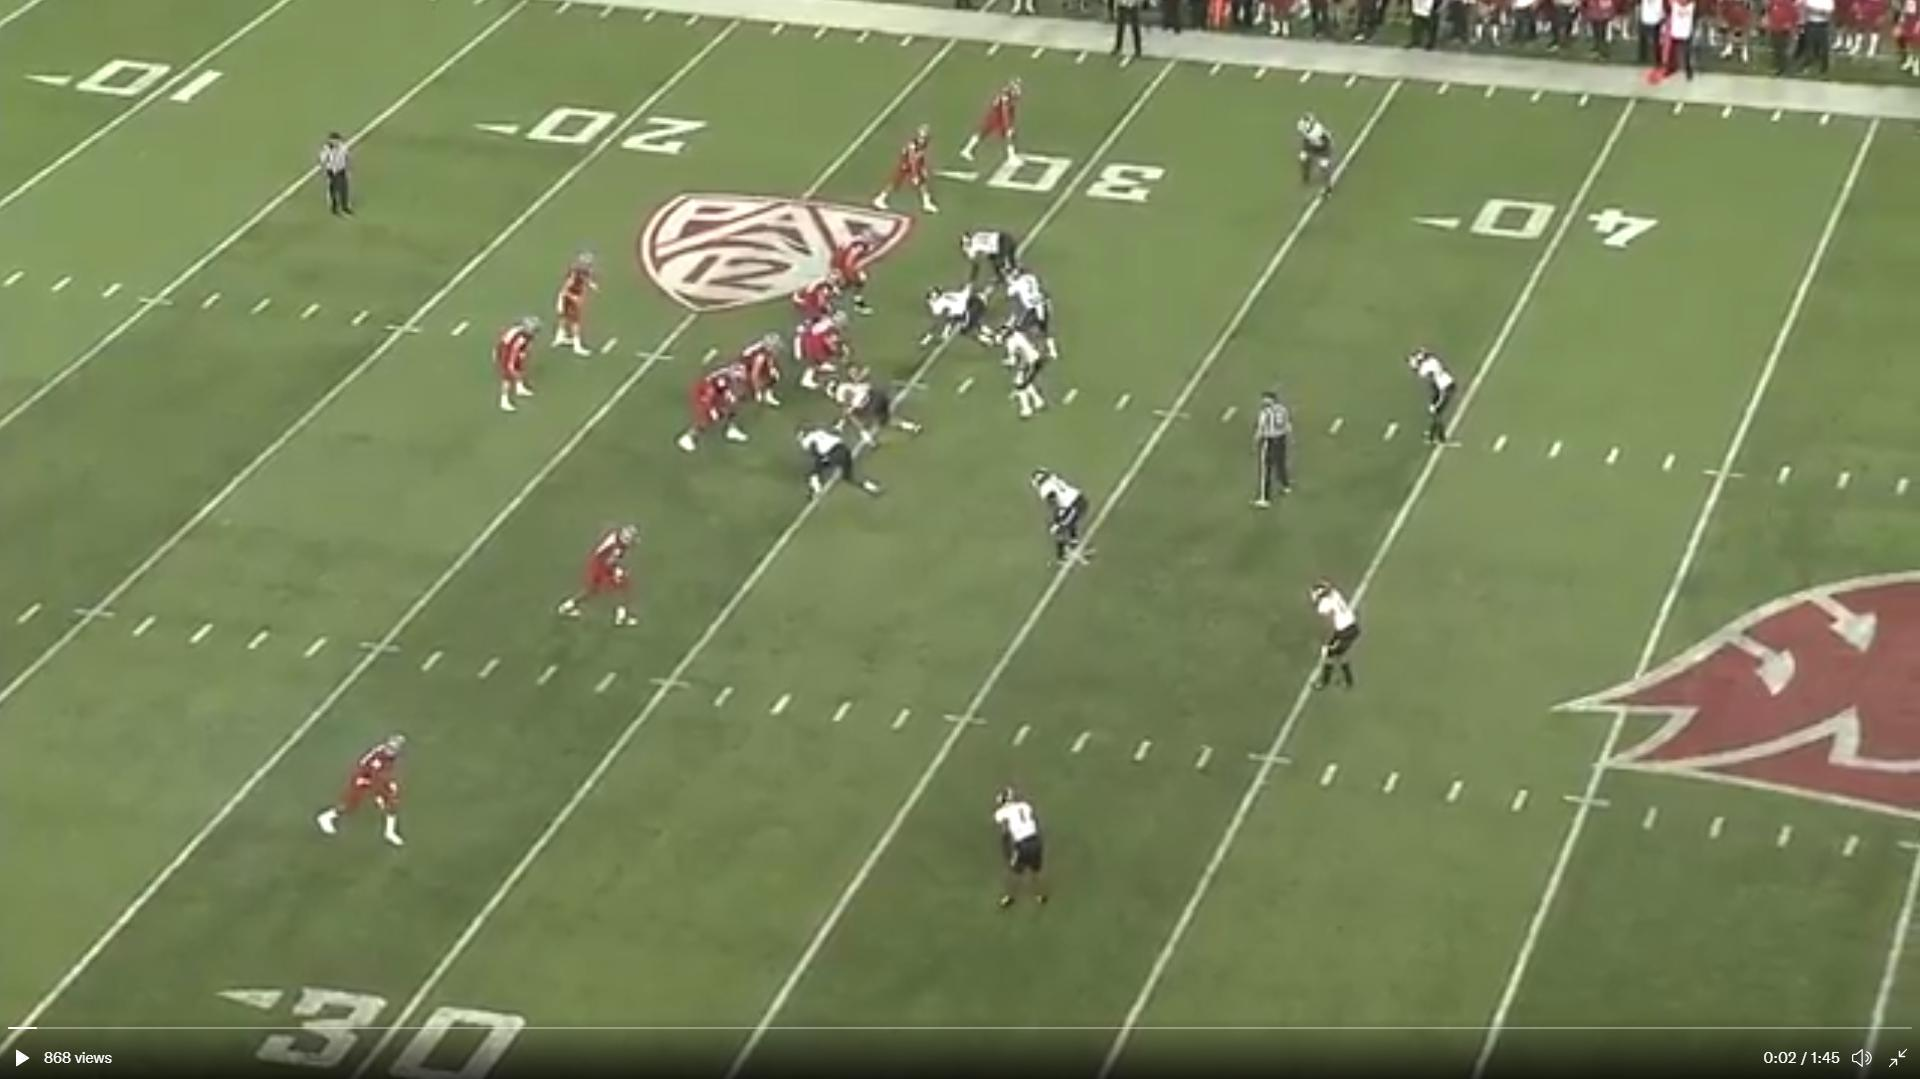player: (312, 726, 414, 854), (558, 521, 649, 635), (990, 782, 1054, 919), (1304, 576, 1365, 699), (796, 426, 887, 505), (826, 373, 922, 447), (678, 362, 752, 456), (1033, 467, 1096, 577), (958, 76, 1030, 169), (876, 121, 944, 219), (819, 226, 887, 318), (1002, 306, 1054, 421), (550, 244, 601, 359), (1005, 269, 1061, 368), (497, 309, 546, 420), (1405, 346, 1457, 445), (921, 288, 1000, 352), (956, 226, 1031, 289), (1291, 112, 1340, 204), (798, 325, 860, 394), (727, 330, 780, 410), (796, 274, 861, 323)
ref: (1250, 382, 1300, 515), (312, 126, 360, 225), (1104, 0, 1148, 67)
